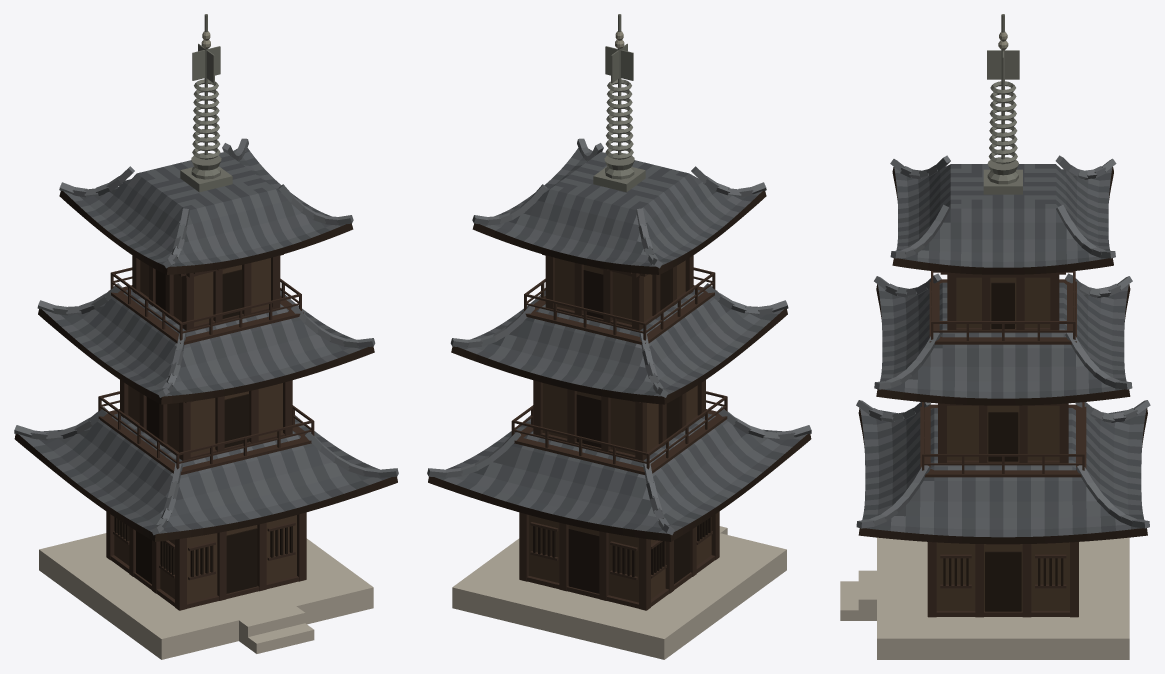
File: pagoda.glb
3 views of the same model, side by side, from view 1: azimuth 30°, elevation 25°; view 2: azimuth 150°, elevation 25°; view 3: azimuth 270°, elevation 25° (orthographic). The views are drawn at different scales.
Parts seen in each view (by area): view 1: tenneiji_pagoda; view 2: tenneiji_pagoda; view 3: tenneiji_pagoda.
Boxes of the visible parts, <box> form: tenneiji_pagoda: <box>14,14,398,659</box>; tenneiji_pagoda: <box>427,14,811,659</box>; tenneiji_pagoda: <box>840,14,1150,659</box>.
Size of the model in its own units: 11.18 by 24.83 by 11.81.
